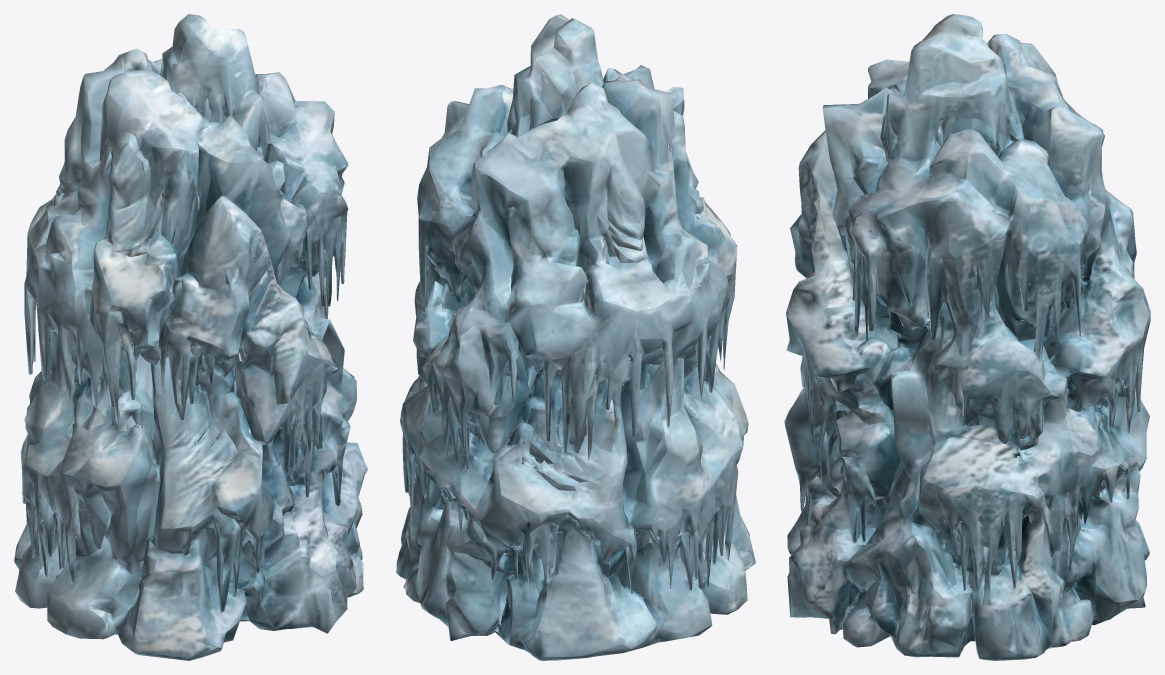
Rendered from serac-01-web.glb.
The picture shows the model from 3 angles, left to right: view 1: azimuth 30°, elevation 25°; view 2: azimuth 150°, elevation 25°; view 3: azimuth 270°, elevation 25°; orthographic projection. The views are drawn at different scales.
Visible parts, largest first — view 1: geometry_0; view 2: geometry_0; view 3: geometry_0.
Part boxes in pixels (x1,y1,x2,y2): geometry_0: (14, 14, 367, 660); geometry_0: (396, 14, 755, 660); geometry_0: (784, 14, 1150, 660).
Size of the model in its own units: 0.3425 by 0.5991 by 0.3437.
Materials: 1 (1 with a texture image).
